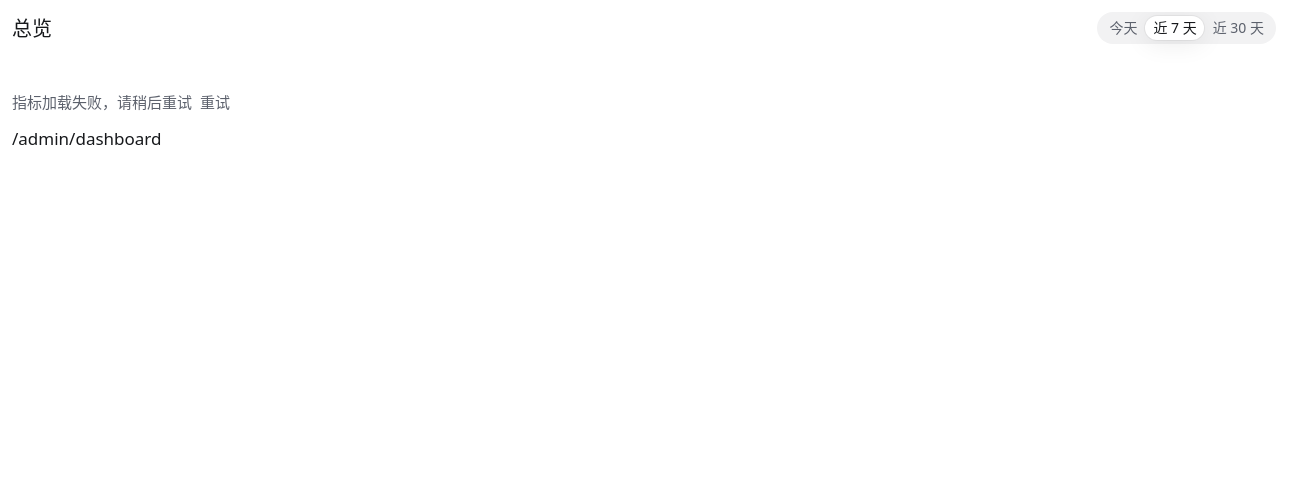
Scenario: 总览 dashboard：卡六态之加载 / 错误 › 首载失败整区错误态；重试后整区恢复
Expected: the text "指标加载失败，请稍后重试" is shown, [12,92,192,112]
Click the button "重试" at (215, 102), box [200,92,230,112]
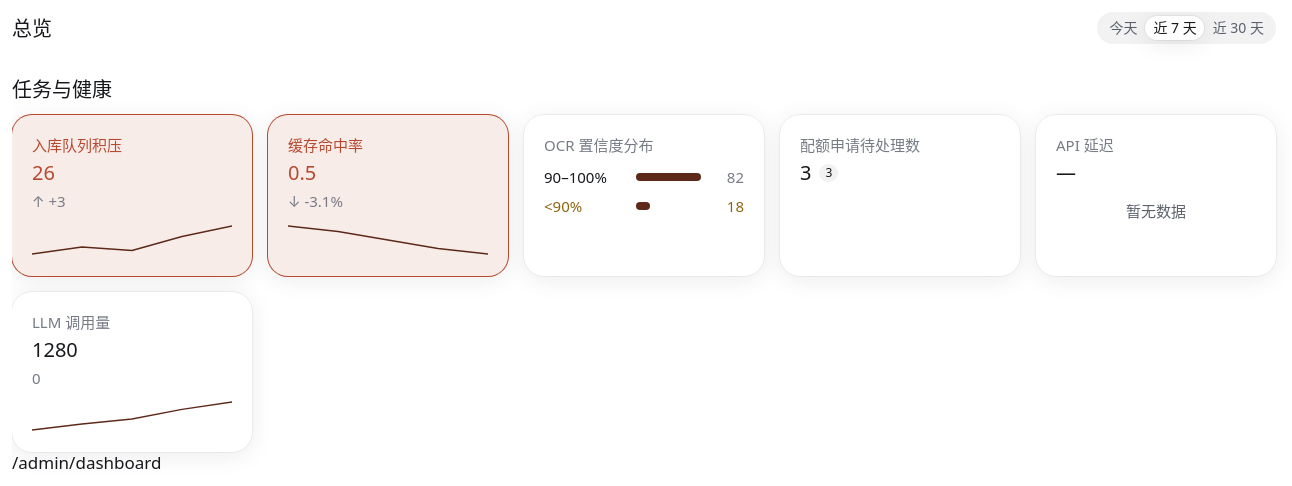
Now the heading "任务与健康" is shown, box [12,76,112,103]
